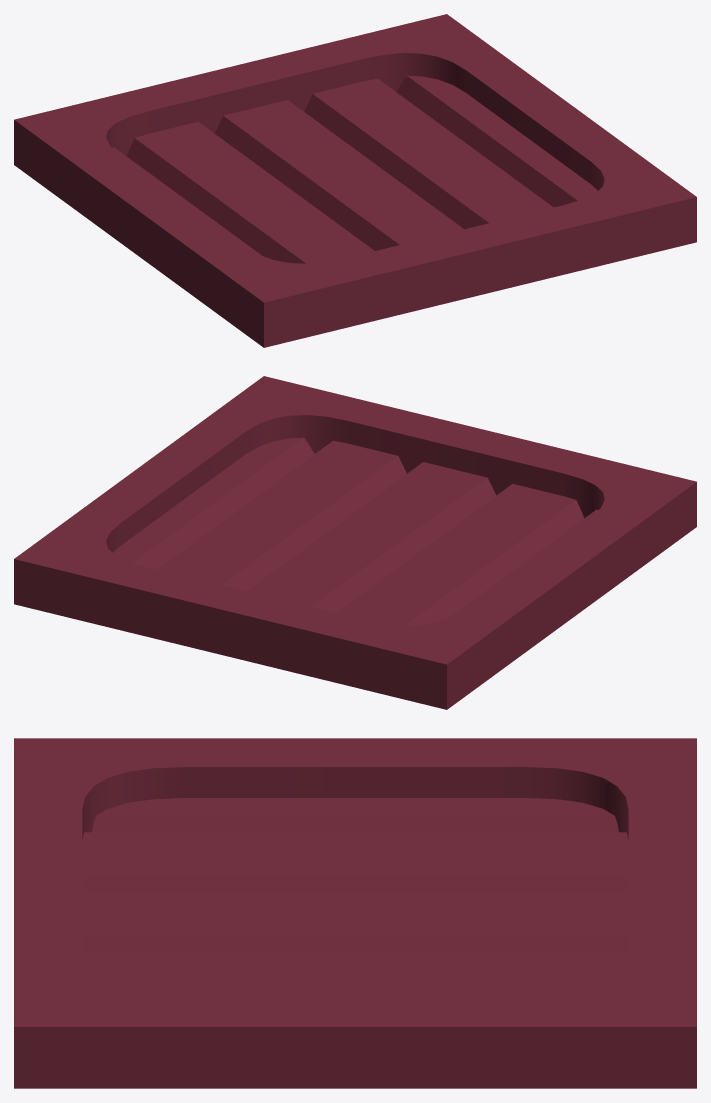
File: Floor_B_1x1m_B.FBX
3 renders of one model, top to bottom at view 1: azimuth 30°, elevation 25°; view 2: azimuth 150°, elevation 25°; view 3: azimuth 270°, elevation 25°, orthographic. The views are drawn at different scales.
Visible parts, largest first — view 1: Floor_B_1x1m_B; view 2: Floor_B_1x1m_B; view 3: Floor_B_1x1m_B.
Part boxes in pixels (x1=…): Floor_B_1x1m_B: x1=14, y1=14, x2=696, y2=347; Floor_B_1x1m_B: x1=14, y1=376, x2=696, y2=709; Floor_B_1x1m_B: x1=14, y1=738, x2=696, y2=1088.
Bounding box in the file's own units: 100 × 10 × 100.
